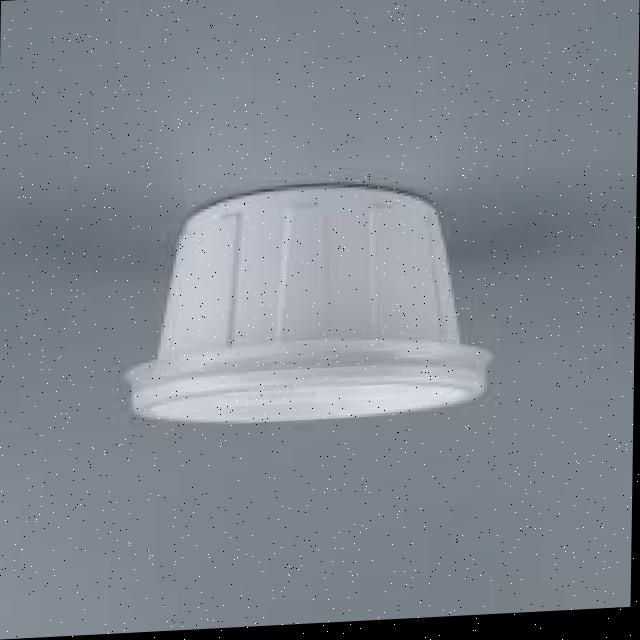disposable: (97, 159, 506, 454)
